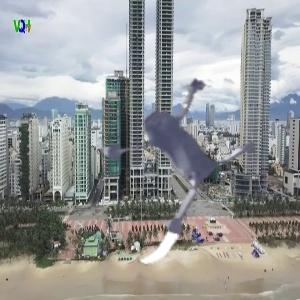drone: (49, 45, 274, 270)
